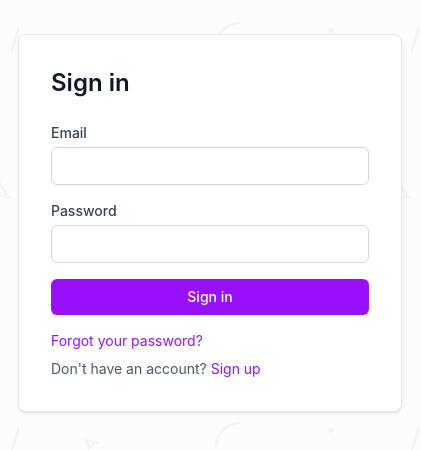
Test: LoginPage › ошибка от сервера › неизвестный код не показывает пользователю ключ перевода
In the field labelled "Email": (210, 166) [51, 147, 369, 185], type "user@example.com"
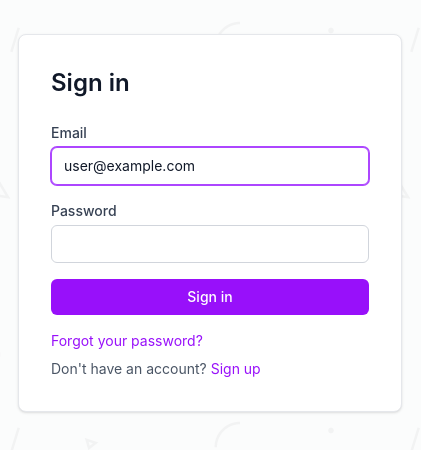
In the password field labelled "Password": (210, 244) [51, 225, 369, 263], type "secret123"
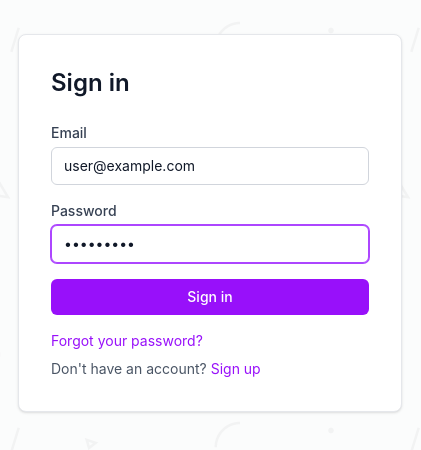
Click the button "Sign in": (210, 297) [51, 279, 369, 315]
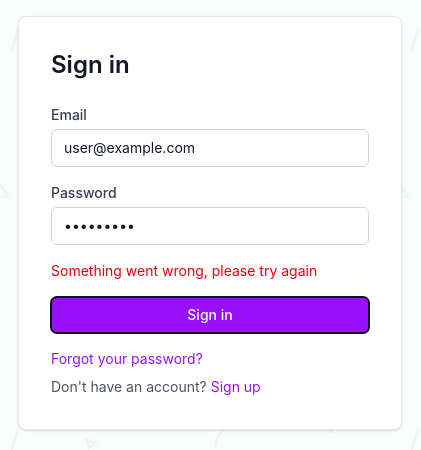
Expected: the text "Something went wrong, please try again" is shown, [51, 262, 317, 279]
